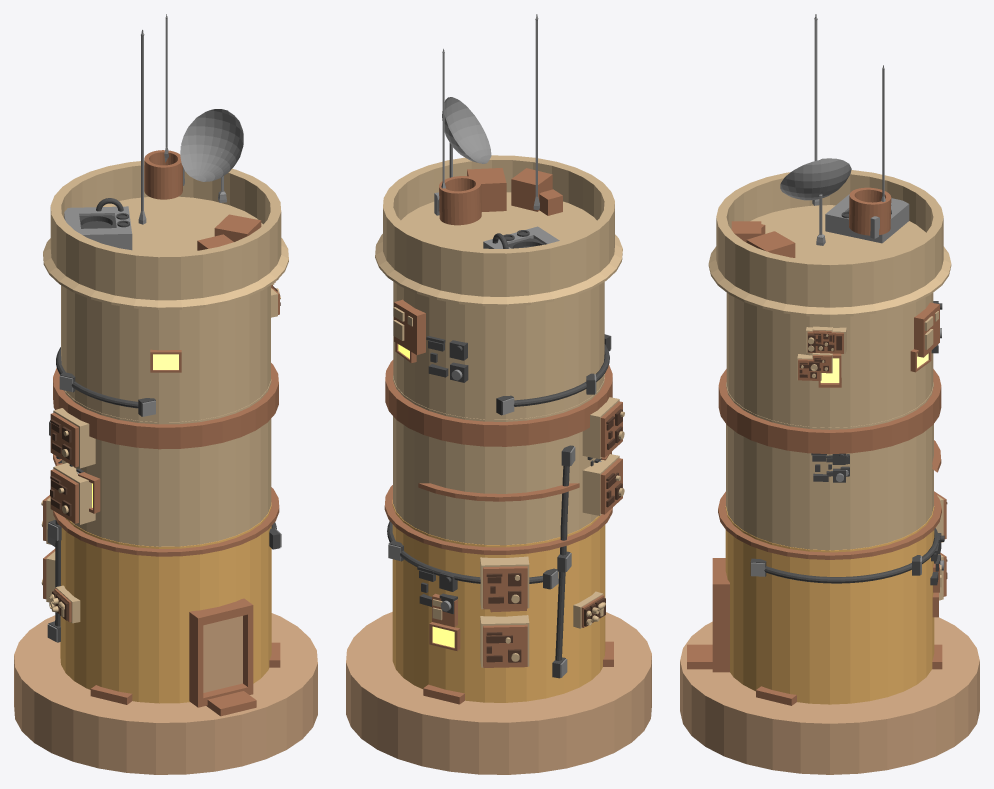
File: nomad_building_05.fbx
The picture shows the model from 3 angles, left to right: view 1: azimuth 30°, elevation 25°; view 2: azimuth 150°, elevation 25°; view 3: azimuth 270°, elevation 25°; orthographic projection. The views are drawn at different scales.
Parts seen in each view (by area): view 1: B05_M_Foundation_foundation, B05_M_Drum0, B05_M_Crown_RoofDeck_Ringwall, B05_M_Drum2, B05_M_Drum1, B05_M_Ring10_TowerTrim_BandTall, B05_M_Dish0_AntennaDish_Reflector, B05_M_Door_Door_Frame, B05_M_Door_Door_Leaf, B05_M_Ring00_TowerTrim_BandThin, B05_M_Stack0_TowerBody_StackWide, B05_M_Crown_RoofVent_Housing (+8 smaller); view 2: B05_M_Foundation_foundation, B05_M_Crown_RoofDeck_Ringwall, B05_M_Drum0, B05_M_Drum2, B05_M_Drum1, B05_M_Ring10_TowerTrim_BandTall, B05_M_Ring00_TowerTrim_BandThin, B05_M_Dish0_AntennaDish_Reflector, B05_M_Stack0_TowerBody_StackWide, B05_M_Panel3_MeterBox_Face005, B05_M_Panel3_MeterBox_Face, B05_M_Arc1M_TowerTrim_BandArcThird (+16 smaller); view 3: B05_M_Drum0, B05_M_Foundation_foundation, B05_M_Crown_RoofDeck_Ringwall, B05_M_Drum1, B05_M_Drum2, B05_M_Ring10_TowerTrim_BandTall, B05_M_Ring00_TowerTrim_BandThin, B05_M_Dish0_AntennaDish_Reflector, B05_M_Door_Door_Frame, B05_M_Stack0_TowerBody_StackWide, B05_M_Crown_RoofVent_Housing, B05_M_Pipe0 (+5 smaller).
Boxes of the visible parts, bbox=[...] form: B05_M_Foundation_foundation: bbox=[14, 613, 317, 774]; B05_M_Drum0: bbox=[60, 502, 271, 703]; B05_M_Crown_RoofDeck_Ringwall: bbox=[43, 161, 288, 309]; B05_M_Drum2: bbox=[61, 285, 270, 422]; B05_M_Drum1: bbox=[62, 379, 271, 546]; B05_M_Ring10_TowerTrim_BandTall: bbox=[53, 363, 278, 449]; B05_M_Dish0_AntennaDish_Reflector: bbox=[180, 109, 243, 181]; B05_M_Door_Door_Frame: bbox=[189, 598, 253, 707]; B05_M_Door_Door_Leaf: bbox=[203, 616, 242, 692]; B05_M_Ring00_TowerTrim_BandThin: bbox=[53, 487, 279, 556]; B05_M_Stack0_TowerBody_StackWide: bbox=[144, 150, 182, 199]; B05_M_Crown_RoofVent_Housing: bbox=[64, 206, 132, 250]; B05_M_Foundation_foundation: bbox=[346, 612, 651, 774]; B05_M_Crown_RoofDeck_Ringwall: bbox=[375, 155, 622, 306]; B05_M_Drum0: bbox=[392, 500, 605, 702]; B05_M_Drum2: bbox=[393, 281, 604, 419]; B05_M_Drum1: bbox=[393, 374, 604, 545]; B05_M_Ring10_TowerTrim_BandTall: bbox=[385, 360, 612, 446]; B05_M_Ring00_TowerTrim_BandThin: bbox=[384, 485, 612, 554]; B05_M_Dish0_AntennaDish_Reflector: bbox=[442, 97, 491, 163]; B05_M_Stack0_TowerBody_StackWide: bbox=[439, 176, 481, 225]; B05_M_Panel3_MeterBox_Face005: bbox=[483, 624, 527, 667]; B05_M_Panel3_MeterBox_Face: bbox=[483, 566, 527, 609]; B05_M_Arc1M_TowerTrim_BandArcThird: bbox=[418, 483, 579, 501]; B05_M_Drum0: bbox=[725, 506, 934, 704]; B05_M_Foundation_foundation: bbox=[680, 617, 979, 774]; B05_M_Crown_RoofDeck_Ringwall: bbox=[708, 170, 951, 317]; B05_M_Drum1: bbox=[726, 382, 933, 550]; B05_M_Drum2: bbox=[726, 293, 933, 427]; B05_M_Ring10_TowerTrim_BandTall: bbox=[718, 369, 941, 454]; B05_M_Ring00_TowerTrim_BandThin: bbox=[718, 491, 941, 559]; B05_M_Dish0_AntennaDish_Reflector: bbox=[780, 158, 851, 200]; B05_M_Door_Door_Frame: bbox=[712, 558, 729, 672]; B05_M_Stack0_TowerBody_StackWide: bbox=[849, 187, 891, 235]; B05_M_Crown_RoofVent_Housing: bbox=[825, 194, 909, 243]; B05_M_Pipe0: bbox=[764, 528, 939, 583].
Size of the model in its own units: 276 by 694 by 276.
